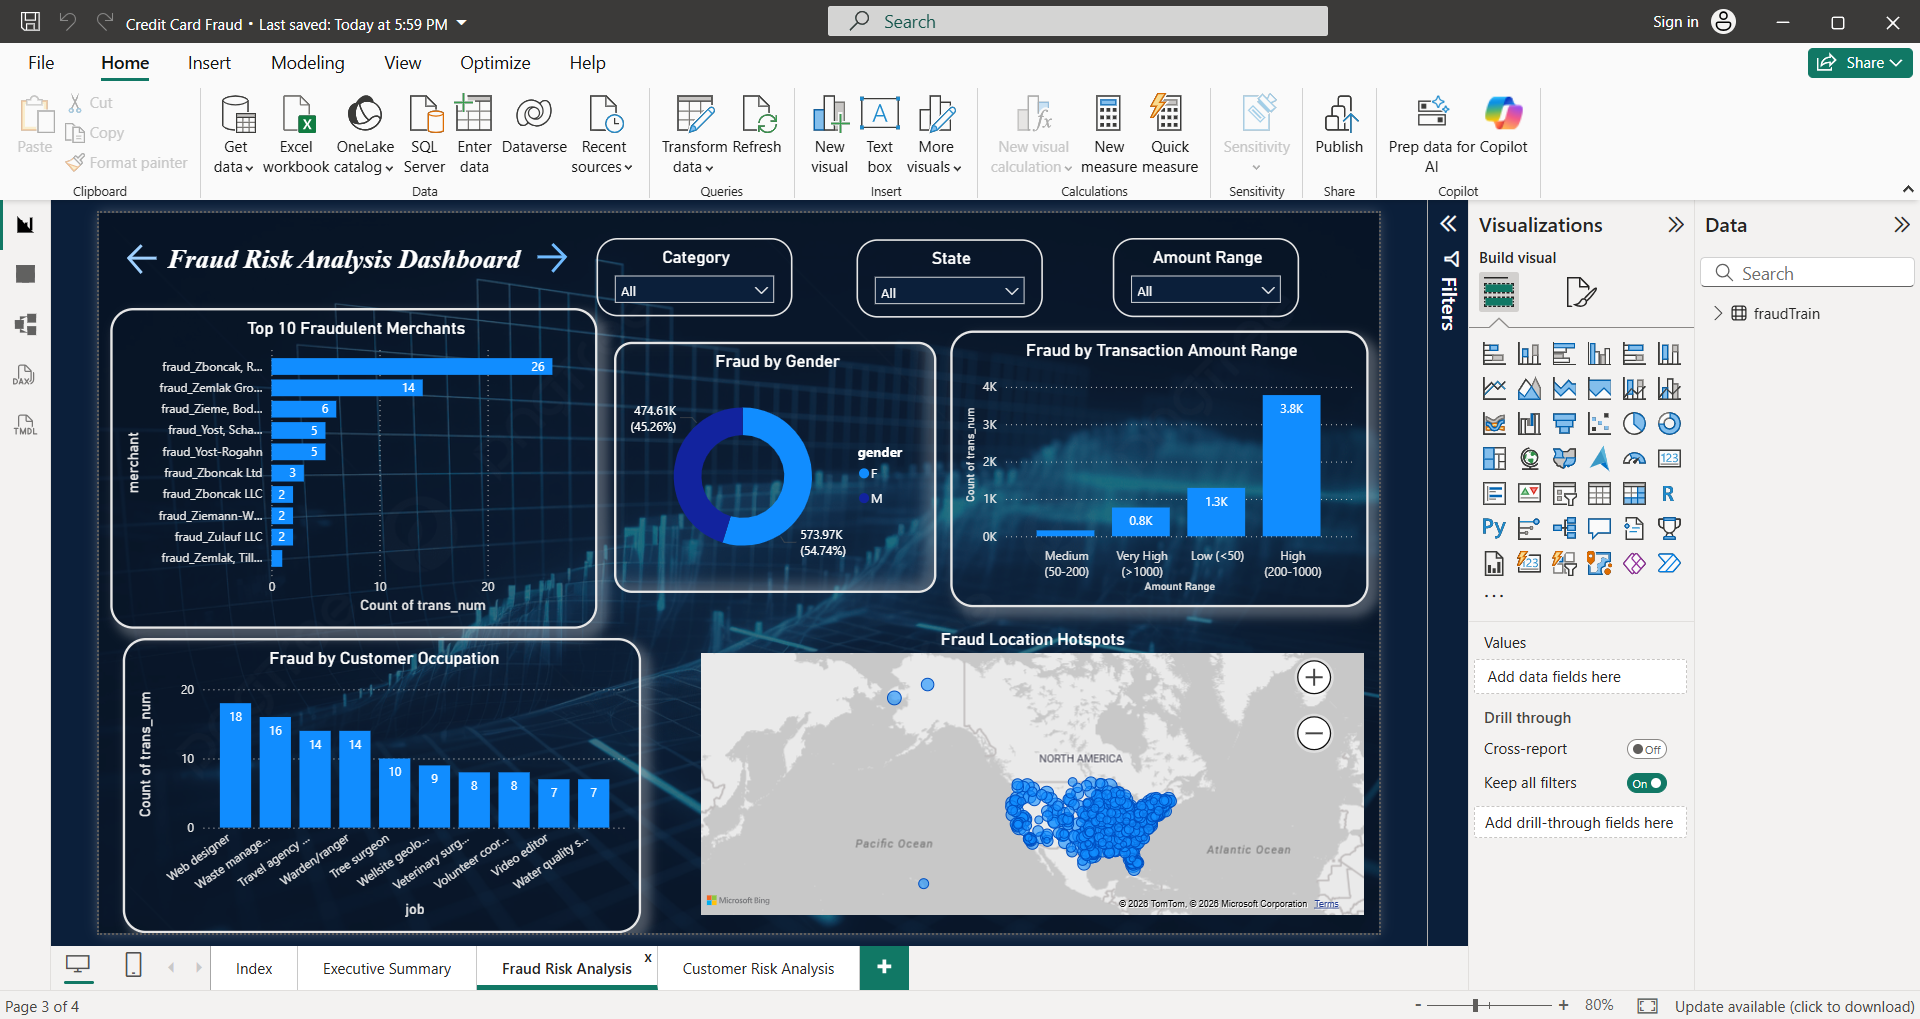

The page's visual inventory and layout, read from the dashboard file:
{"tool":"powerbi","page":{"name":"Fraud Risk Analysis Dashboard","canvas":[1280,720],"ordinal":2},"visuals":[{"type":"textbox","box":[11,26.1,466.6,54.9],"z":0},{"type":"barChart","title":"Top 10 Fraudulent Merchants","fields":{"Category":["fraudTrain.merchant"],"Y":["CountNonNull(fraudTrain.trans_num)"]},"box":[11,108.4,487.1,297.8],"z":1000},{"type":"donutChart","title":"Fraud by Gender","fields":{"Y":["CountNonNull(fraudTrain.trans_num)"],"Category":["fraudTrain.gender"]},"box":[542,130.4,308.7,251.1],"z":2000},{"type":"columnChart","title":"Fraud by Transaction Amount Range","fields":{"Category":["fraudTrain.Amount Range"],"Y":["CountNonNull(fraudTrain.trans_num)"]},"box":[850.8,118,418.5,277.2],"z":3000},{"type":"columnChart","title":"Fraud by Customer Occupation","fields":{"Y":["CountNonNull(fraudTrain.trans_num)"],"Category":["fraudTrain.job"]},"box":[32.9,403.4,518.7,295],"z":4000},{"type":"map","title":"Fraud Location Hotspots","fields":{"Y":["fraudTrain.Latitude"],"X":["fraudTrain.Longitude"],"Size":["CountNonNull(fraudTrain.trans_num)"]},"box":[596.9,406.2,672.4,290.9],"z":5000},{"type":"slicer","title":"Amount Range","fields":{"Values":["fraudTrain.Amount Range"]},"box":[1014.1,24.7,186.6,72.7],"z":6000},{"type":"slicer","title":"State","fields":{"Values":["fraudTrain.state"]},"box":[757.5,26.1,186.6,71.4],"z":7000},{"type":"slicer","title":"Category","fields":{"Values":["fraudTrain.category"]},"box":[477.5,26.1,196.2,78.2],"z":8000},{"type":"actionButton","box":[23.3,26.1,42.5,39.8],"z":9000}]}

Visuals, with their boxes on the page's 1280x720 design canvas (x1, y1, x2, y2). These are canvas units, not pixel positions in the 1920x1019 screenshot, which may show the page scaled, cropped or inside an application window:
textbox: x1=11, y1=26, x2=478, y2=81
"Top 10 Fraudulent Merchants" barChart: x1=11, y1=108, x2=498, y2=406
"Fraud by Gender" donutChart: x1=542, y1=130, x2=851, y2=382
"Fraud by Transaction Amount Range" columnChart: x1=851, y1=118, x2=1269, y2=395
"Fraud by Customer Occupation" columnChart: x1=33, y1=403, x2=552, y2=698
"Fraud Location Hotspots" map: x1=597, y1=406, x2=1269, y2=697
"Amount Range" slicer: x1=1014, y1=25, x2=1201, y2=97
"State" slicer: x1=758, y1=26, x2=944, y2=98
"Category" slicer: x1=478, y1=26, x2=674, y2=104
actionButton: x1=23, y1=26, x2=66, y2=66
